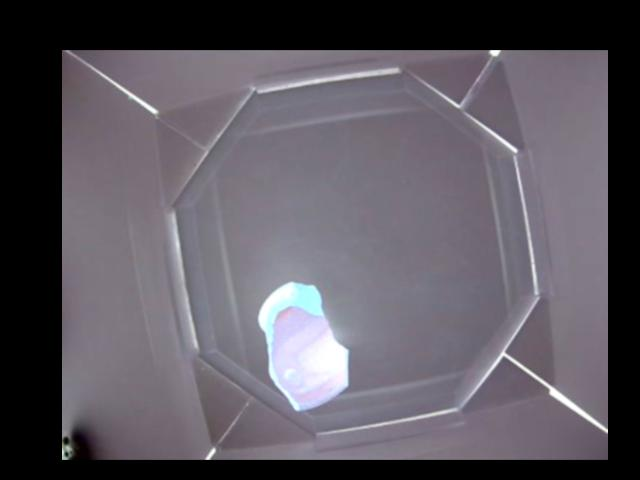China: (253, 279, 349, 412)
